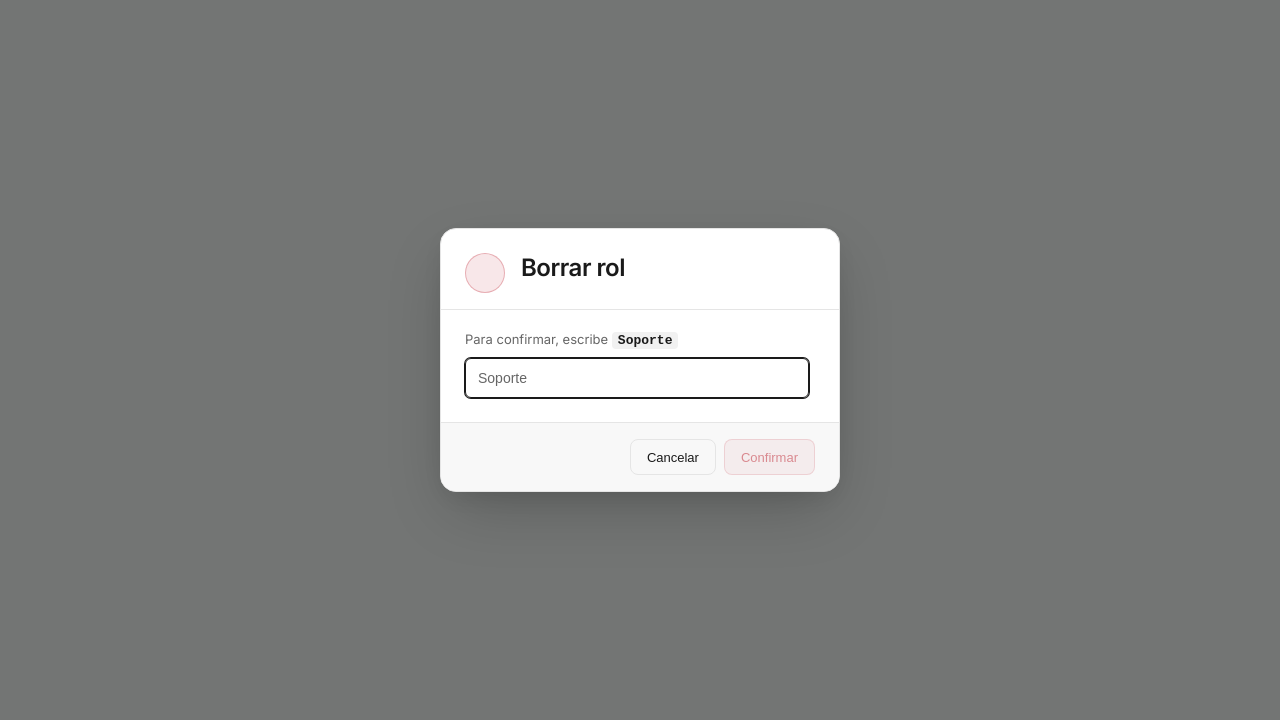
Test: UiConfirmDialog › con requireTypedConfirmation bloquea el botón hasta escribir el texto exacto
Expected: the button "Confirmar" is disabled, [724,439,815,475]
Type "Sopor" into the field with placeholder "Soporte" at (637, 378), box [465,358,809,398]
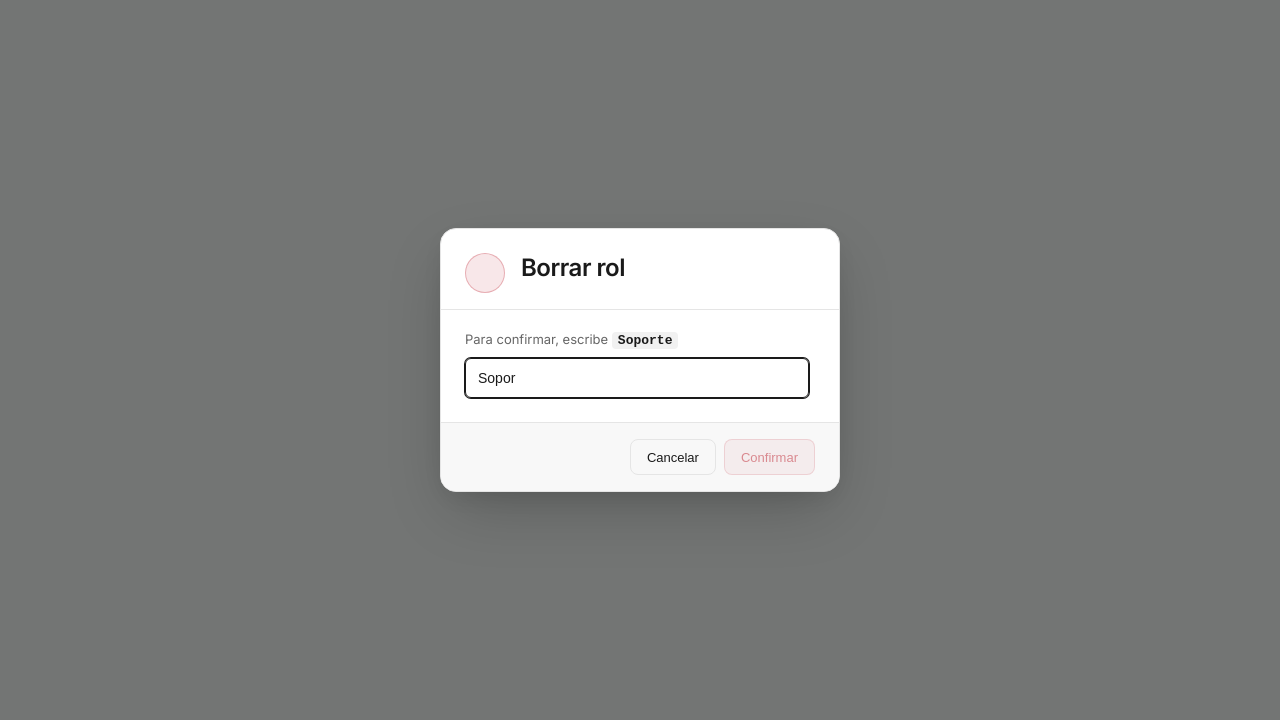
Expected: the button "Confirmar" is disabled, [724,439,815,475]
Replace the text in the field named "Escribe Soporte para confirmar" with "Soporte" at (637, 378), box [465,358,809,398]
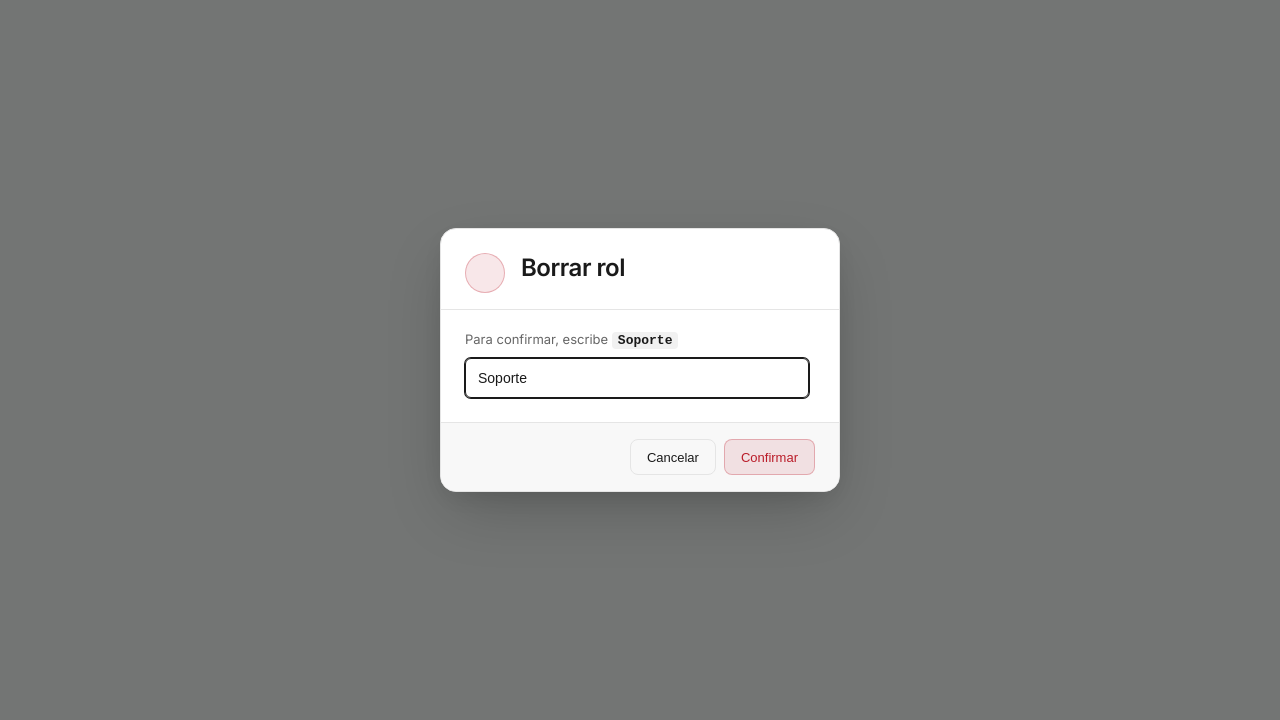
Expected: the button "Confirmar" is enabled, [724,439,815,475]
